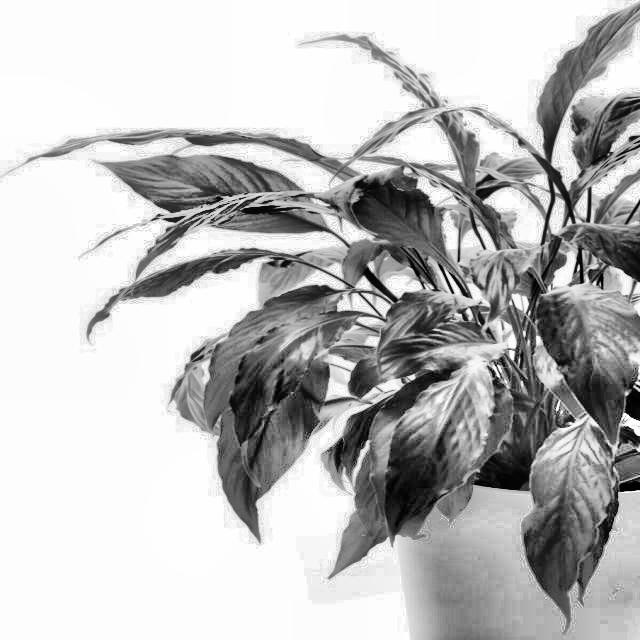plants: (48, 10, 640, 640), (150, 288, 640, 640)
